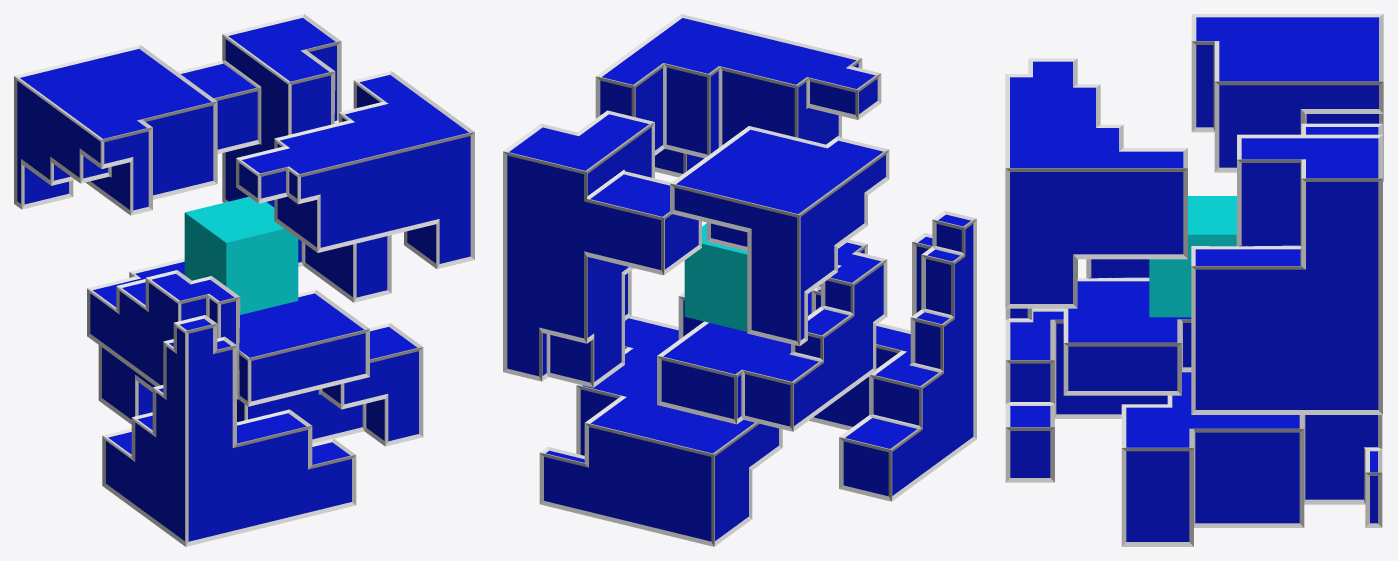
Rendered from Cube Central 1.fbx.
3 views of the same model, side by side, from view 1: azimuth 30°, elevation 25°; view 2: azimuth 150°, elevation 25°; view 3: azimuth 270°, elevation 25° (orthographic). The views are drawn at different scales.
Parts seen in each view (by area): view 1: Partie 3, Partie 1, Partie 4, Partie 6, Partie 2, Partie 5, Core; view 2: Partie 2, Partie 5, Partie 1, Partie 4, Partie 3, Partie 6, Core; view 3: Partie 2, Partie 1, Partie 5, Partie 4, Partie 6, Partie 3, Core.
Part boxes in pixels (left/top/right/bottom): Partie 3: left=102, top=315, right=356, bottom=546; Partie 1: left=236, top=71, right=474, bottom=268; Partie 4: left=14, top=45, right=217, bottom=215; Partie 6: left=87, top=258, right=369, bottom=406; Partie 2: left=177, top=14, right=391, bottom=302; Partie 5: left=98, top=323, right=423, bottom=446; Core: left=184, top=197, right=298, bottom=314; Partie 2: left=503, top=110, right=701, bottom=387; Partie 5: left=539, top=315, right=782, bottom=546; Partie 1: left=595, top=14, right=881, bottom=177; Partie 4: left=670, top=126, right=889, bottom=346; Partie 3: left=809, top=210, right=976, bottom=501; Partie 6: left=657, top=239, right=887, bottom=431; Core: left=684, top=223, right=747, bottom=331; Partie 2: left=1191, top=123, right=1382, bottom=414; Partie 1: left=1005, top=58, right=1187, bottom=308; Partie 5: left=1121, top=372, right=1382, bottom=546; Partie 4: left=1191, top=14, right=1383, bottom=181; Partie 6: left=1063, top=259, right=1191, bottom=395; Partie 3: left=1005, top=259, right=1167, bottom=482; Core: left=1149, top=196, right=1236, bottom=317.
Bounding box in the file's own units: 951 × 1078 × 977.
